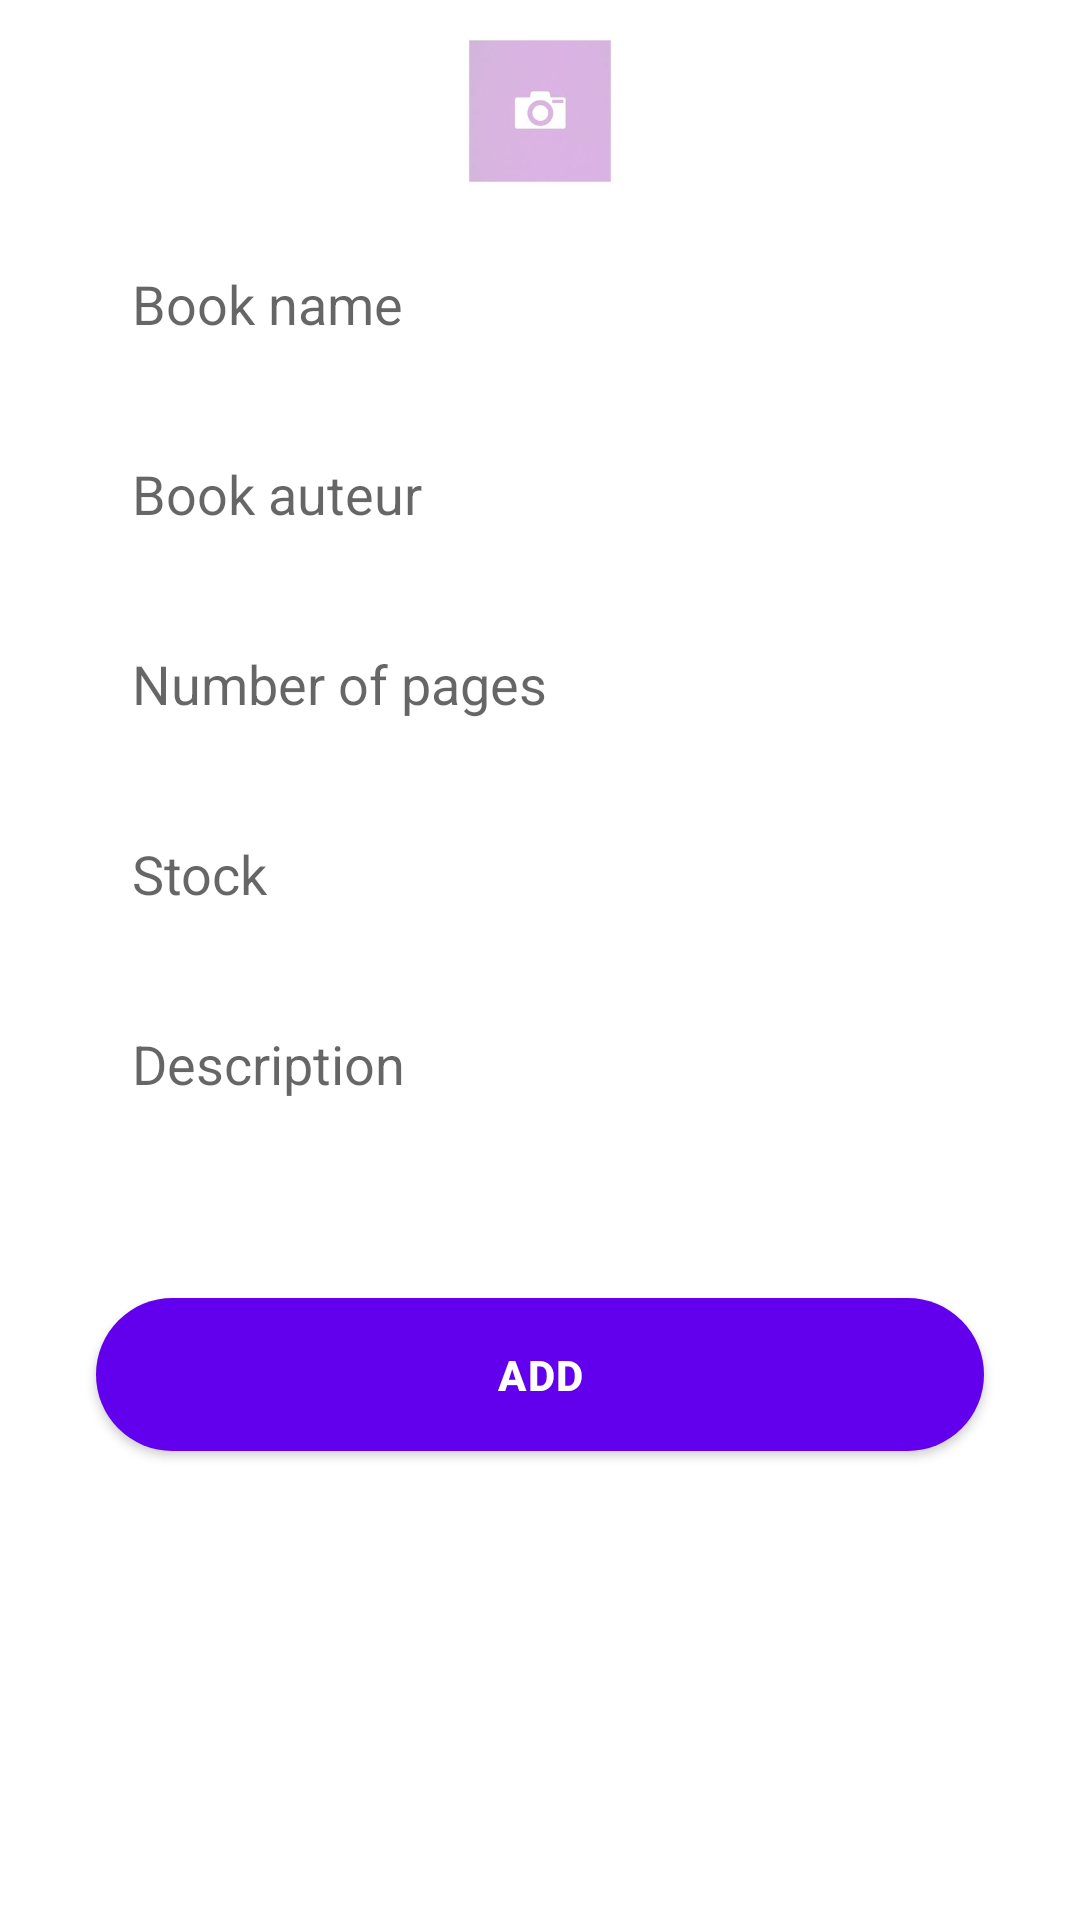

Named icons in this screenshot (1080×1920) and their bounding boxes, (x1=x1, y1=y1, x2=x2, y2=y2):
gallerycam: (x1=469, y1=40, x2=611, y2=182)
